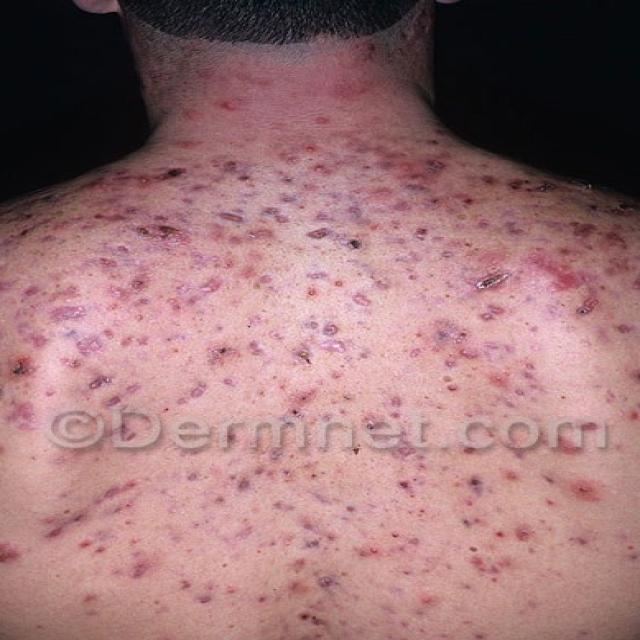Acne: (99, 142, 599, 640), (0, 235, 107, 531), (166, 34, 416, 140), (604, 231, 640, 472)
